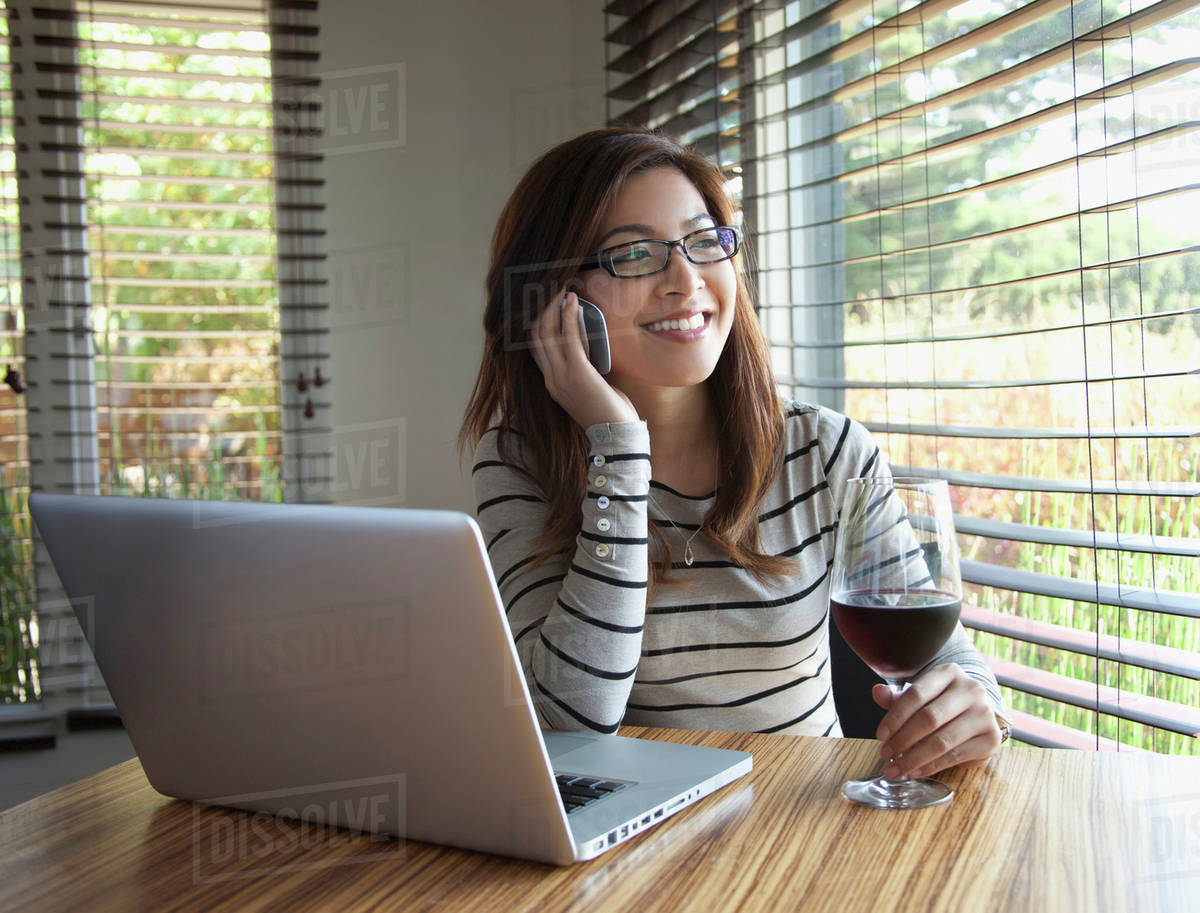phone: (527, 286, 622, 408)
talk: (502, 209, 740, 422)
